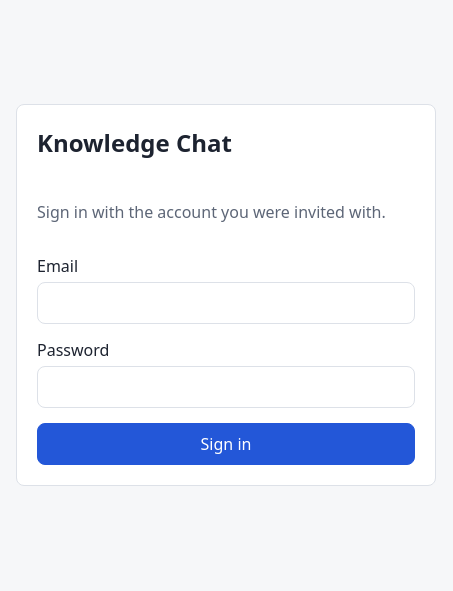
mismatched new passwords are caught before calling Cognito
Type "u@example.com" into the field labelled "Email".
click(226, 303); type("u@example.com")  # box [37,282,415,324]
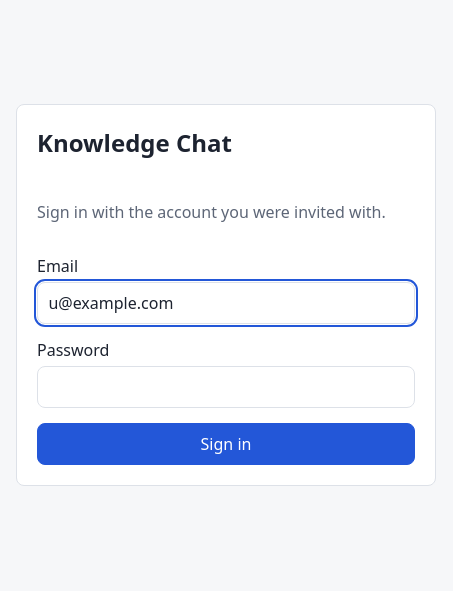
Type "x" into the password field labelled "Password".
click(226, 387); type("x")  # box [37,366,415,408]
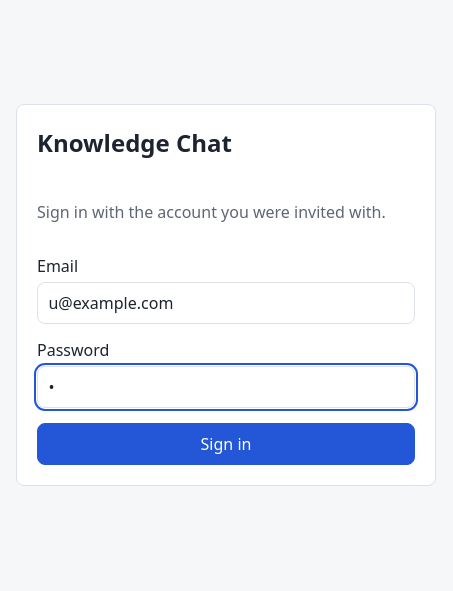
Click the button "Sign in".
click(226, 444)  # box [37,423,415,465]
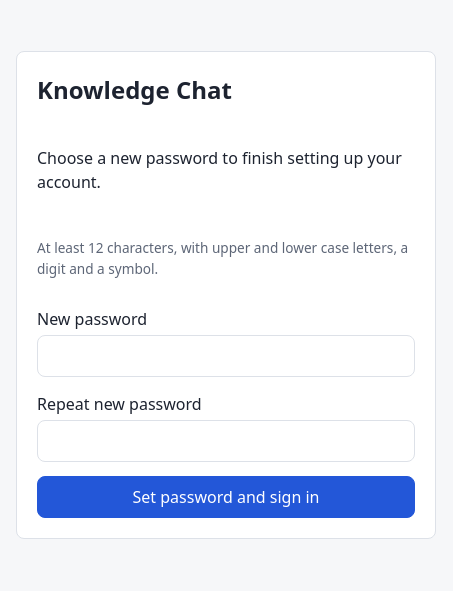
Type "A-new-Passw0rd!" into the password field labelled "New password".
click(226, 356); type("A-new-Passw0rd!")  # box [37,335,415,377]
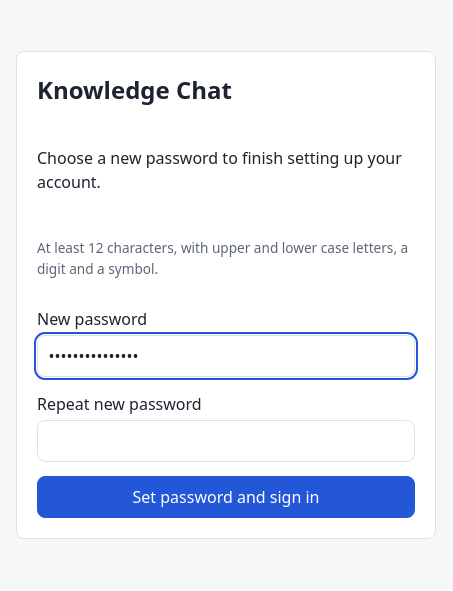
Type "Different-Passw0rd!" into the password field labelled "Repeat new password".
click(226, 441); type("Different-Passw0rd!")  # box [37,420,415,462]
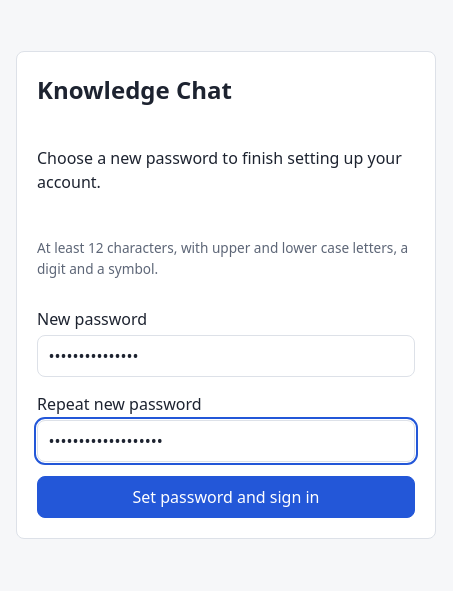
Click the button "Set password and sign in".
click(226, 497)  # box [37,476,415,518]
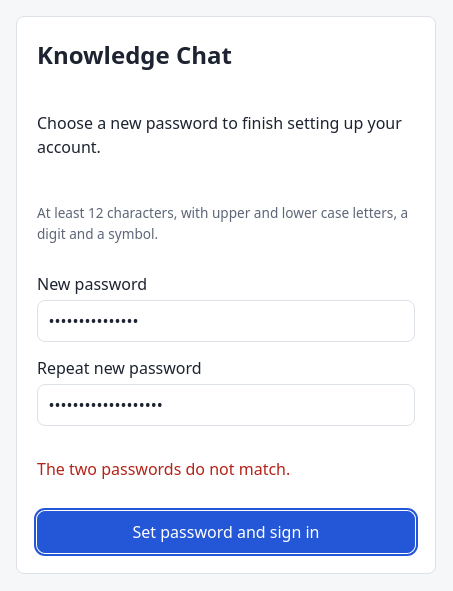
expect the message shows "do not match": met, box [37,458,290,480]
